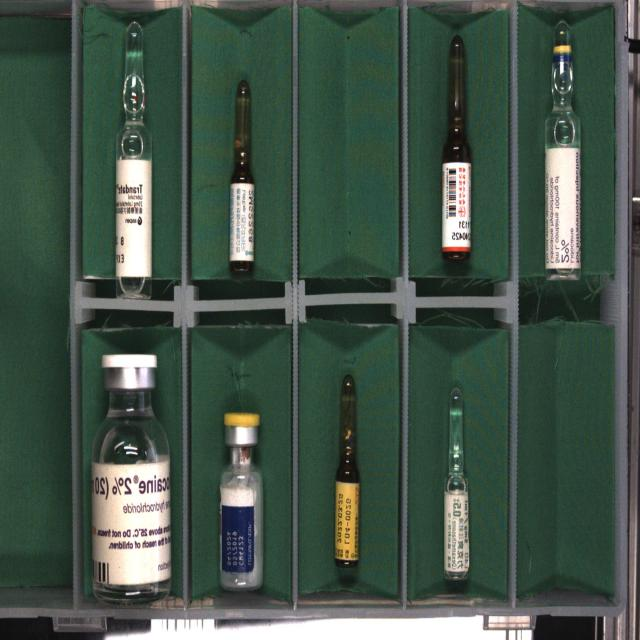Vials: (91, 354, 171, 603), (220, 412, 264, 591)
